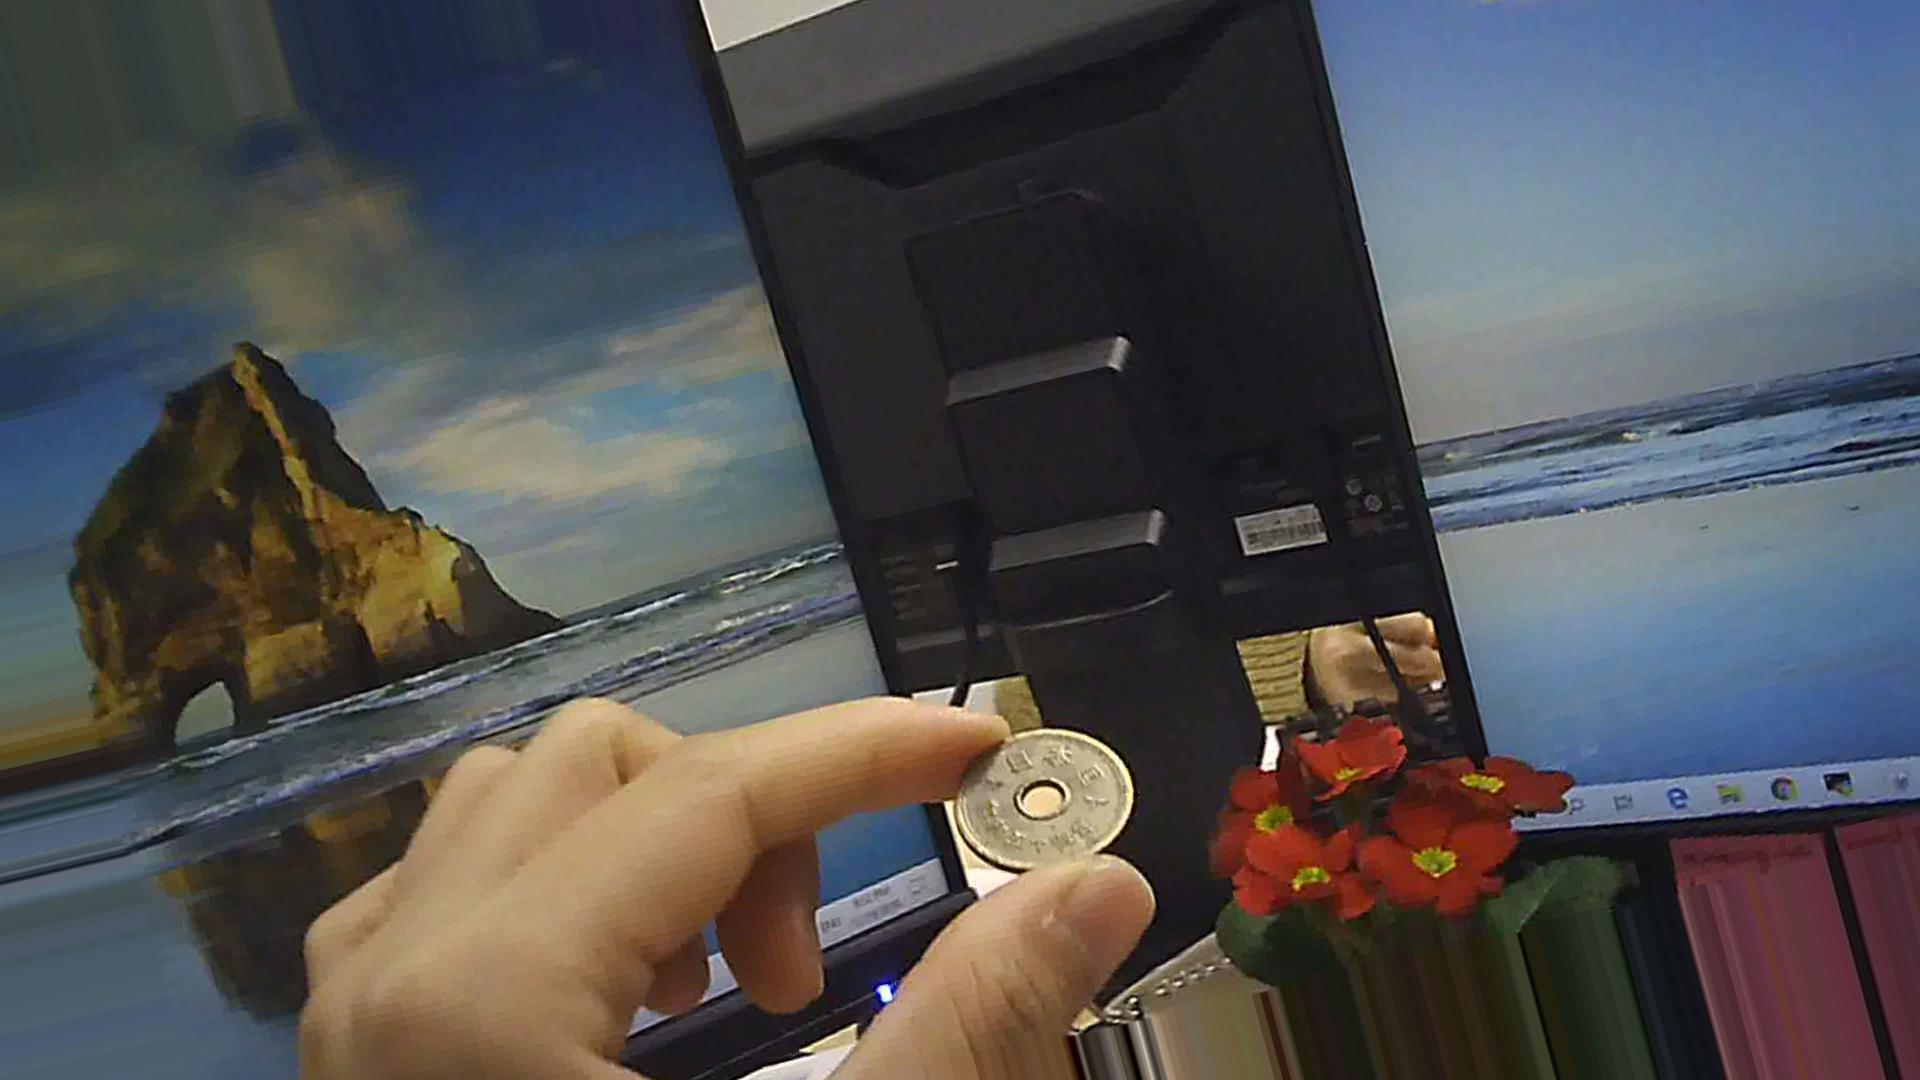5 Yen: (936, 719, 1158, 891)
